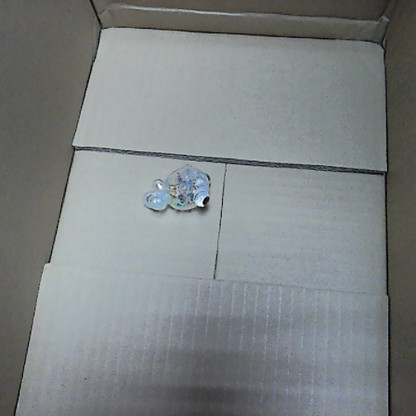whitefish: (140, 158, 214, 215)
